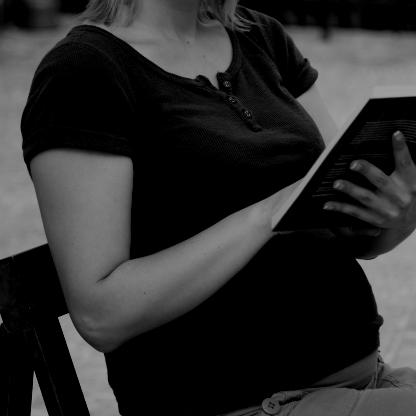dress: (20, 4, 388, 416)
